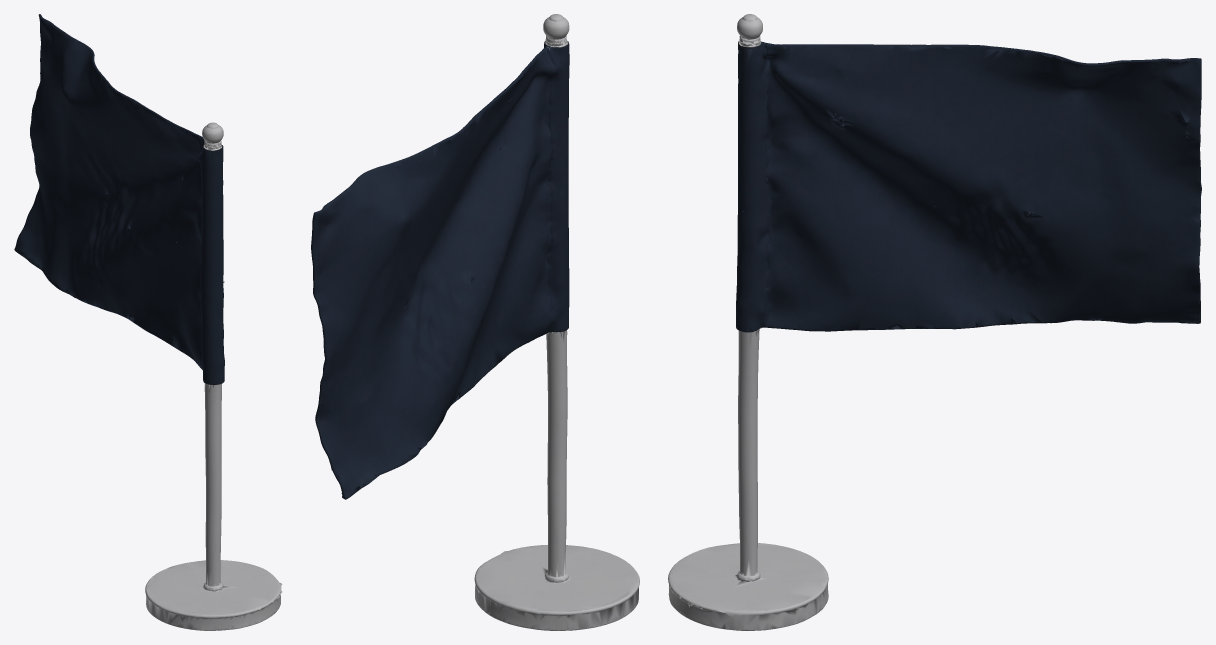
File: BANDERA.glb
The picture shows the model from 3 angles, left to right: view 1: azimuth 30°, elevation 25°; view 2: azimuth 150°, elevation 25°; view 3: azimuth 270°, elevation 25°; orthographic projection. The views are drawn at different scales.
Visible parts, largest first — view 1: tripo_node_ad395b07-68dd-4747-9a30-12fe33ab9780; view 2: tripo_node_ad395b07-68dd-4747-9a30-12fe33ab9780; view 3: tripo_node_ad395b07-68dd-4747-9a30-12fe33ab9780.
Boxes of the visible parts, x1,y1,x2,y2 form: tripo_node_ad395b07-68dd-4747-9a30-12fe33ab9780: (14,14,282,630); tripo_node_ad395b07-68dd-4747-9a30-12fe33ab9780: (311,14,639,630); tripo_node_ad395b07-68dd-4747-9a30-12fe33ab9780: (668,14,1201,630).
Size of the model in its own units: 0.254 by 0.9792 by 0.8154.
Materials: 1 (1 with a texture image).
